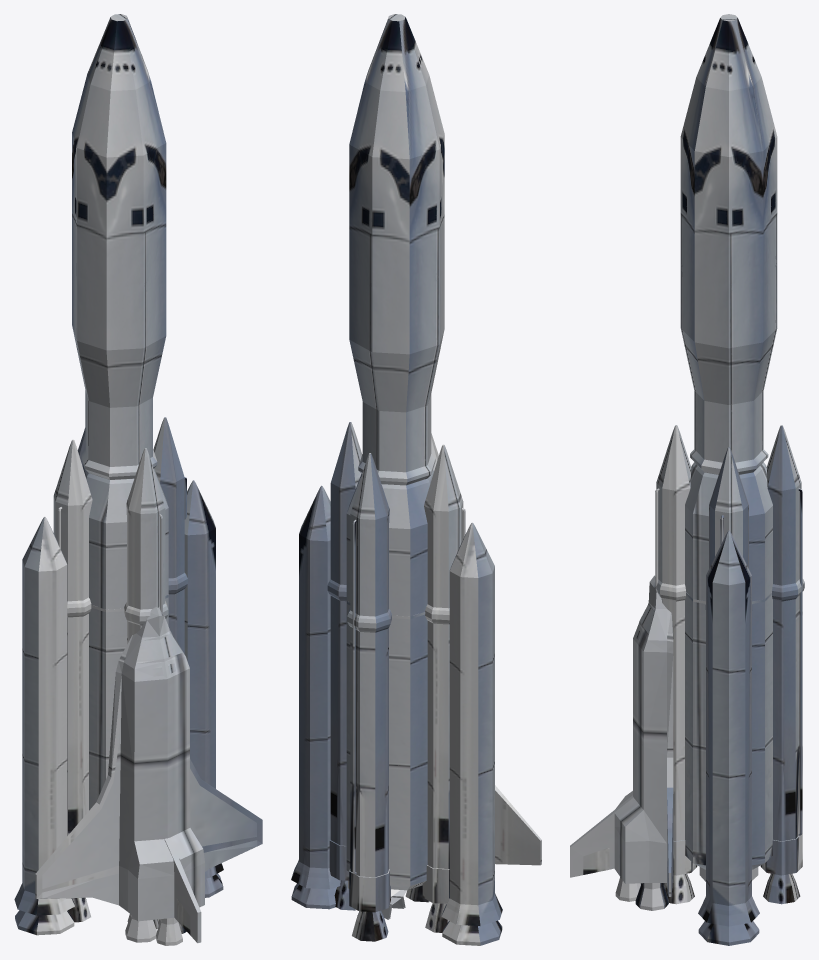
File: Rockets_Pack-TP_SEKWADI.dae
3 renders of one model, left to right at view 1: azimuth 30°, elevation 25°; view 2: azimuth 150°, elevation 25°; view 3: azimuth 270°, elevation 25°, orthographic. The views are drawn at different scales.
Parts seen in each view (by area): view 1: Space_Shuffle, Angara_5; view 2: Angara_5, Space_Shuffle; view 3: Angara_5, Space_Shuffle.
Boxes of the visible parts, left/top/right/bottom form: Space_Shuffle: left=14, top=464, right=262, bottom=945; Angara_5: left=53, top=14, right=187, bottom=929; Angara_5: left=327, top=14, right=465, bottom=941; Space_Shuffle: left=291, top=470, right=541, bottom=945; Angara_5: left=655, top=14, right=804, bottom=904; Space_Shuffle: left=570, top=462, right=772, bottom=945.
Bounding box in the file's own units: 4.95 × 4.5 × 18.57.
1 material, 1 textured.
